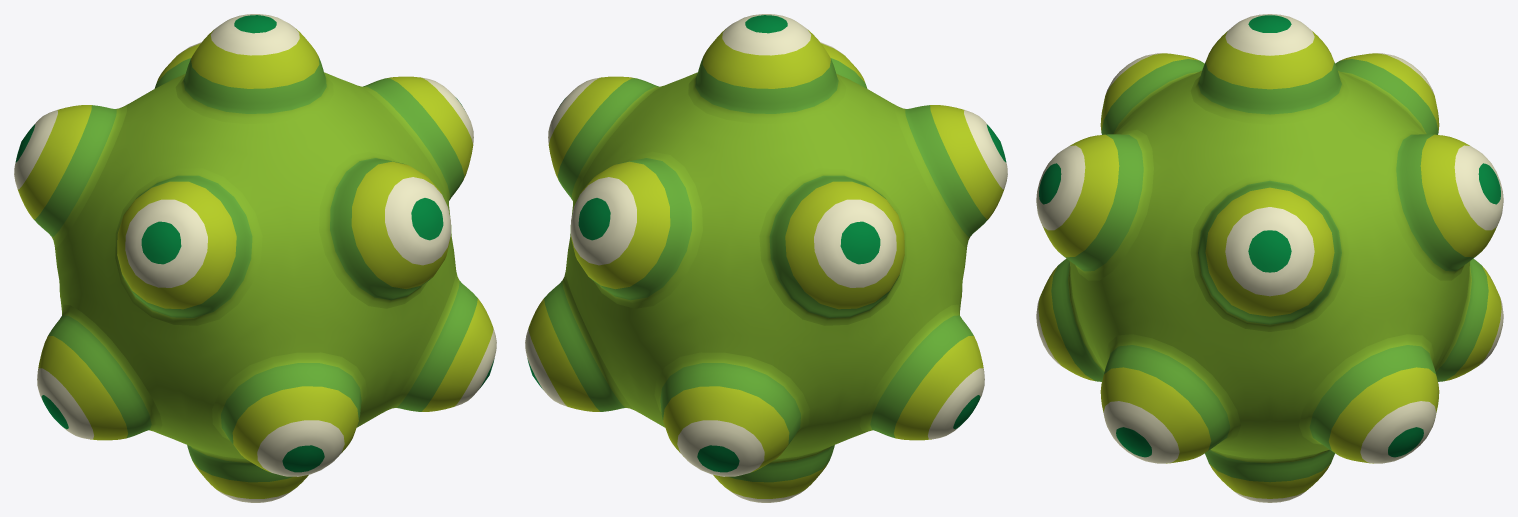
File: katamari_ball.glb
3 renders of one model, left to right at view 1: azimuth 30°, elevation 25°; view 2: azimuth 150°, elevation 25°; view 3: azimuth 270°, elevation 25°, orthographic.
Visible parts, largest first — view 1: Object_2, Object_5, Object_4, Object_6, Object_3; view 2: Object_2, Object_5, Object_4, Object_6, Object_3; view 3: Object_2, Object_5, Object_4, Object_6, Object_3.
Part boxes in pixels (<box>): Object_2: <box>51,72,459,463</box>; Object_5: <box>17,29,493,498</box>; Object_4: <box>33,57,477,482</box>; Object_6: <box>14,14,496,502</box>; Object_3: <box>15,15,494,472</box>; Object_2: <box>562,72,970,463</box>; Object_5: <box>528,29,1004,498</box>; Object_4: <box>544,57,988,482</box>; Object_6: <box>525,14,1007,502</box>; Object_3: <box>527,15,1006,472</box>; Object_2: <box>1068,70,1471,463</box>; Object_5: <box>1038,31,1501,498</box>; Object_4: <box>1051,59,1488,482</box>; Object_6: <box>1036,14,1503,502</box>; Object_3: <box>1039,15,1500,457</box>.
Bounding box in the file's own units: 2.29 × 2.48 × 2.21.
